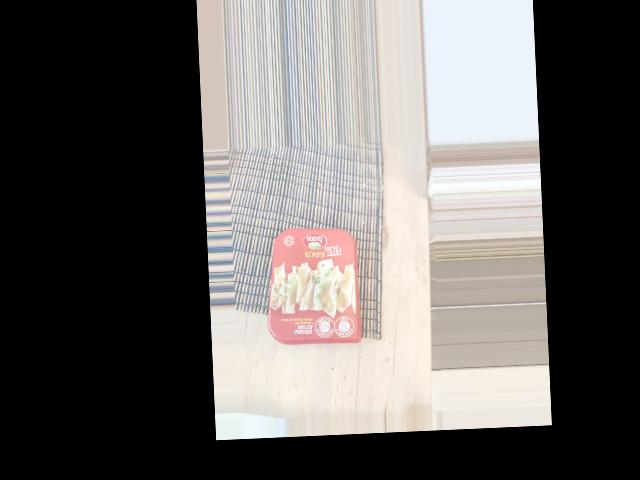cheese: (233, 177, 359, 275)
